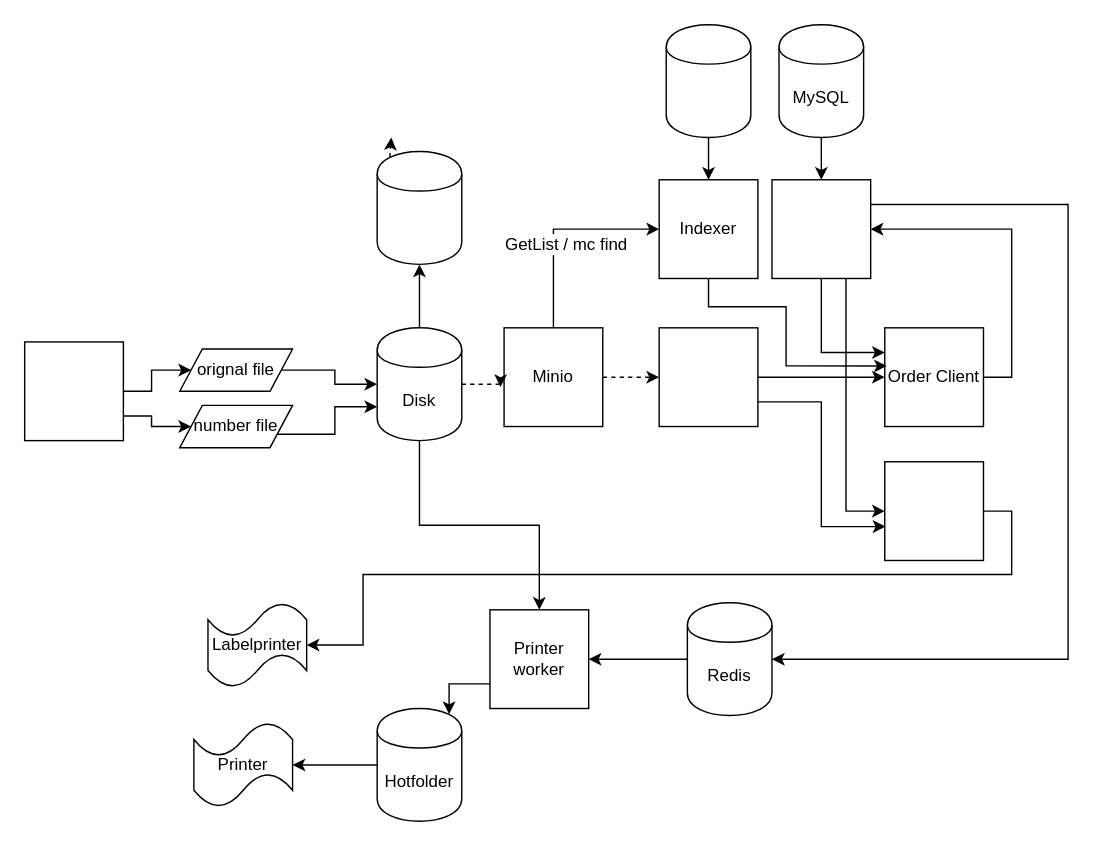
Image size: 1104x846. Some labels were removed from this diagram. The box of each missing label's shape, as (x1, y1, x2, y2) in pixels:
Backup: (376, 150, 462, 264)
ES: (665, 23, 751, 137)
Lightroom: (23, 341, 123, 441)
Order API: (771, 178, 871, 278)
Order Viewer: (883, 460, 983, 560)
Thumbor: (658, 326, 758, 427)
